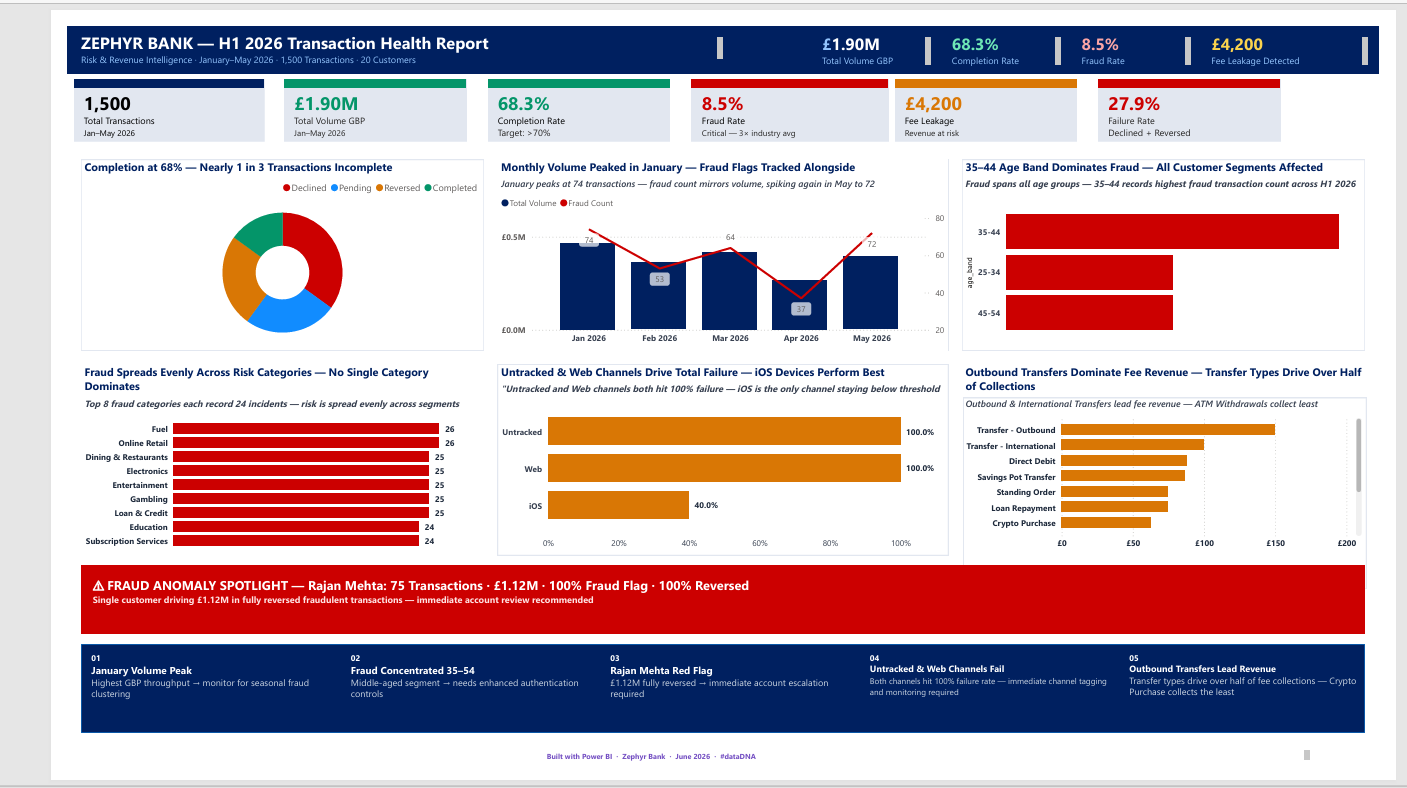

What the dashboard file says about the page in this screenshot:
{"tool":"powerbi","page":{"name":"Final page","canvas":[1920,1080],"ordinal":0},"visuals":[{"type":"shape","box":[10,78,278,90],"z":0,"group":"g5"},{"type":"shape","box":[318,78,265.5,90],"z":0,"group":"g2"},{"type":"shape","box":[616,78,265.5,90],"z":0,"group":"g7"},{"type":"shape","box":[914,78,287.7,90],"z":0,"group":"g4"},{"type":"shape","box":[1212,78,265.5,90],"z":0,"group":"g6"},{"type":"shape","box":[1510,78,265.5,90],"z":0,"group":"g3"},{"type":"shape","box":[20,495,590,280],"z":0},{"type":"shape","box":[10,78,278,12],"z":1000,"group":"g5"},{"type":"shape","box":[318,78,265.5,12],"z":1000,"group":"g2"},{"type":"shape","box":[616,78,265.5,12],"z":1000,"group":"g7"},{"type":"shape","box":[914,78,287.7,12],"z":1000,"group":"g4"},{"type":"shape","box":[1212,78,265.5,12],"z":1000,"group":"g6"},{"type":"shape","box":[1510,78,265.5,12],"z":1000,"group":"g3"},{"type":"shape","box":[1310,195,590,280],"z":1000},{"type":"shape","box":[0,0,1920,70],"z":2000},{"type":"textbox","box":[19.3,88,259.3,80],"z":2000,"group":"g5"},{"type":"textbox","box":[326.9,88,247.7,80],"z":2000,"group":"g2"},{"type":"textbox","box":[624.9,88,247.7,80],"z":2000,"group":"g7"},{"type":"textbox","box":[923.7,88,268.3,80],"z":2000,"group":"g4"},{"type":"textbox","box":[1220.9,88,247.7,80],"z":2000,"group":"g6"},{"type":"textbox","box":[1518.9,88,247.7,80],"z":2000,"group":"g3"},{"type":"textbox","box":[15,8,950,55],"z":3000},{"type":"textbox","box":[1100,8,170,55],"z":4000},{"type":"textbox","box":[1290,8,170,55],"z":5000},{"type":"textbox","box":[1480,8,170,55],"z":6000},{"type":"textbox","box":[1670,8,240,55],"z":7000},{"type":"group","id":"g1","title":"Group 1","box":[10,78,278,90],"z":8000},{"type":"group","id":"g2","title":"Group 2","box":[318,78,278,96],"z":9000},{"type":"group","id":"g3","title":"Group 2","box":[1510,78,278,96],"z":10000},{"type":"group","id":"g4","title":"Group 2","box":[914,78,278,96],"z":11000},{"type":"group","id":"g5","title":"Group 2","box":[10,78,278,90],"z":11004,"group":"g1"},{"type":"group","id":"g6","title":"Group 2","box":[1212,78,278,96],"z":12000},{"type":"group","id":"g7","title":"Group 2","box":[616,78,278,96],"z":13000},{"type":"shape","box":[20,195,590,280],"z":14000},{"type":"shape","box":[630,195,660,280],"z":15000},{"type":"donutChart","title":"Completion at 68% — Nearly 1 in 3 Transactions Incomplete","fields":{"Y":["_Measures.Total Transactions"],"Category":["fact_transactions_updated.transaction_status"]},"box":[20,195,590,280],"z":16000},{"type":"lineStackedColumnComboChart","title":"Monthly Volume Peaked in January — Fraud Flags Tracked Alongside","fields":{"Category":["DateTable.Month Name"],"Y":["_Measures.Total Volume"],"Y2":["_Measures.Fraud Count"]},"box":[630,195,660,280],"z":17000},{"type":"shape","box":[1312,544,590,280],"z":18000},{"type":"clusteredBarChart","title":"35–44 Age Band Dominates Fraud — All Customer Segments Affected","fields":{"Category":["dim_customer.age_band"],"Y":["_Measures.Fraud Count"]},"box":[1310,195,590,280],"z":19000},{"type":"clusteredBarChart","title":"Fraud Spreads Evenly Across Risk Categories — No Single Category Dominates","fields":{"Y":["_Measures.Fraud Count"],"Category":["dim_merchant_category.category_name"]},"box":[20,495,590,280],"z":20000},{"type":"shape","box":[630,495,660,280],"z":21000},{"type":"clusteredBarChart","title":"Untracked & Web Channels Drive Total Failure — iOS Devices Perform Best","fields":{"Category":["fact_transactions_updated.device_type"],"Y":["_Measures.Failure Rate"]},"box":[630,495,660,280],"z":22000},{"type":"clusteredBarChart","title":"Outbound Transfers Dominate Fee Revenue — Transfer Types Drive Over Half of Collections","fields":{"Y":["_Measures.Total Fee Revenue"],"Category":["dim_transaction_type.type_name"]},"box":[1310,495,590,280],"z":23000},{"type":"shape","box":[20,790,1880,100],"z":24000},{"type":"textbox","box":[32,800,1860,52],"z":25000},{"type":"shape","box":[20,905,1880,130],"z":26000},{"type":"textbox","box":[30,910,370,120],"z":27000},{"type":"textbox","box":[410,910,370,120],"z":28000},{"type":"textbox","box":[790,910,370,120],"z":29000},{"type":"textbox","box":[1170,910,370,120],"z":30000},{"type":"textbox","box":[1550,910,370,120],"z":31000},{"type":"textbox","box":[0,1056,1824,24],"z":32000}]}

Visuals, with their boxes in screenshot pixels (x1, y1, x2, y2), scaled from the page's 1920x1080 canvas onto the 1407x788 screenshot:
shape: <bbox>7, 57, 211, 123</bbox>
shape: <bbox>233, 57, 428, 123</bbox>
shape: <bbox>451, 57, 646, 123</bbox>
shape: <bbox>670, 57, 881, 123</bbox>
shape: <bbox>888, 57, 1083, 123</bbox>
shape: <bbox>1107, 57, 1301, 123</bbox>
shape: <bbox>15, 361, 447, 565</bbox>
shape: <bbox>7, 57, 211, 66</bbox>
shape: <bbox>233, 57, 428, 66</bbox>
shape: <bbox>451, 57, 646, 66</bbox>
shape: <bbox>670, 57, 881, 66</bbox>
shape: <bbox>888, 57, 1083, 66</bbox>
shape: <bbox>1107, 57, 1301, 66</bbox>
shape: <bbox>960, 142, 1392, 347</bbox>
shape: <bbox>0, 0, 1406, 51</bbox>
textbox: <bbox>14, 64, 204, 123</bbox>
textbox: <bbox>240, 64, 421, 123</bbox>
textbox: <bbox>458, 64, 639, 123</bbox>
textbox: <bbox>677, 64, 874, 123</bbox>
textbox: <bbox>895, 64, 1076, 123</bbox>
textbox: <bbox>1113, 64, 1295, 123</bbox>
textbox: <bbox>11, 6, 707, 46</bbox>
textbox: <bbox>806, 6, 931, 46</bbox>
textbox: <bbox>945, 6, 1070, 46</bbox>
textbox: <bbox>1085, 6, 1209, 46</bbox>
textbox: <bbox>1224, 6, 1400, 46</bbox>
"Group 1" group: <bbox>7, 57, 211, 123</bbox>
"Group 2" group: <bbox>233, 57, 437, 127</bbox>
"Group 2" group: <bbox>1107, 57, 1310, 127</bbox>
"Group 2" group: <bbox>670, 57, 874, 127</bbox>
"Group 2" group: <bbox>7, 57, 211, 123</bbox>
"Group 2" group: <bbox>888, 57, 1092, 127</bbox>
"Group 2" group: <bbox>451, 57, 655, 127</bbox>
shape: <bbox>15, 142, 447, 347</bbox>
shape: <bbox>462, 142, 945, 347</bbox>
"Completion at 68% — Nearly 1 in 3 Transactions Incomplete" donutChart: <bbox>15, 142, 447, 347</bbox>
"Monthly Volume Peaked in January — Fraud Flags Tracked Alongside" lineStackedColumnComboChart: <bbox>462, 142, 945, 347</bbox>
shape: <bbox>961, 397, 1394, 601</bbox>
"35–44 Age Band Dominates Fraud — All Customer Segments Affected" clusteredBarChart: <bbox>960, 142, 1392, 347</bbox>
"Fraud Spreads Evenly Across Risk Categories — No Single Category Dominates" clusteredBarChart: <bbox>15, 361, 447, 565</bbox>
shape: <bbox>462, 361, 945, 565</bbox>
"Untracked & Web Channels Drive Total Failure — iOS Devices Perform Best" clusteredBarChart: <bbox>462, 361, 945, 565</bbox>
"Outbound Transfers Dominate Fee Revenue — Transfer Types Drive Over Half of Collections" clusteredBarChart: <bbox>960, 361, 1392, 565</bbox>
shape: <bbox>15, 576, 1392, 649</bbox>
textbox: <bbox>23, 584, 1386, 622</bbox>
shape: <bbox>15, 660, 1392, 755</bbox>
textbox: <bbox>22, 664, 293, 752</bbox>
textbox: <bbox>300, 664, 572, 752</bbox>
textbox: <bbox>579, 664, 850, 752</bbox>
textbox: <bbox>857, 664, 1129, 752</bbox>
textbox: <bbox>1136, 664, 1406, 752</bbox>
textbox: <bbox>0, 770, 1337, 787</bbox>
